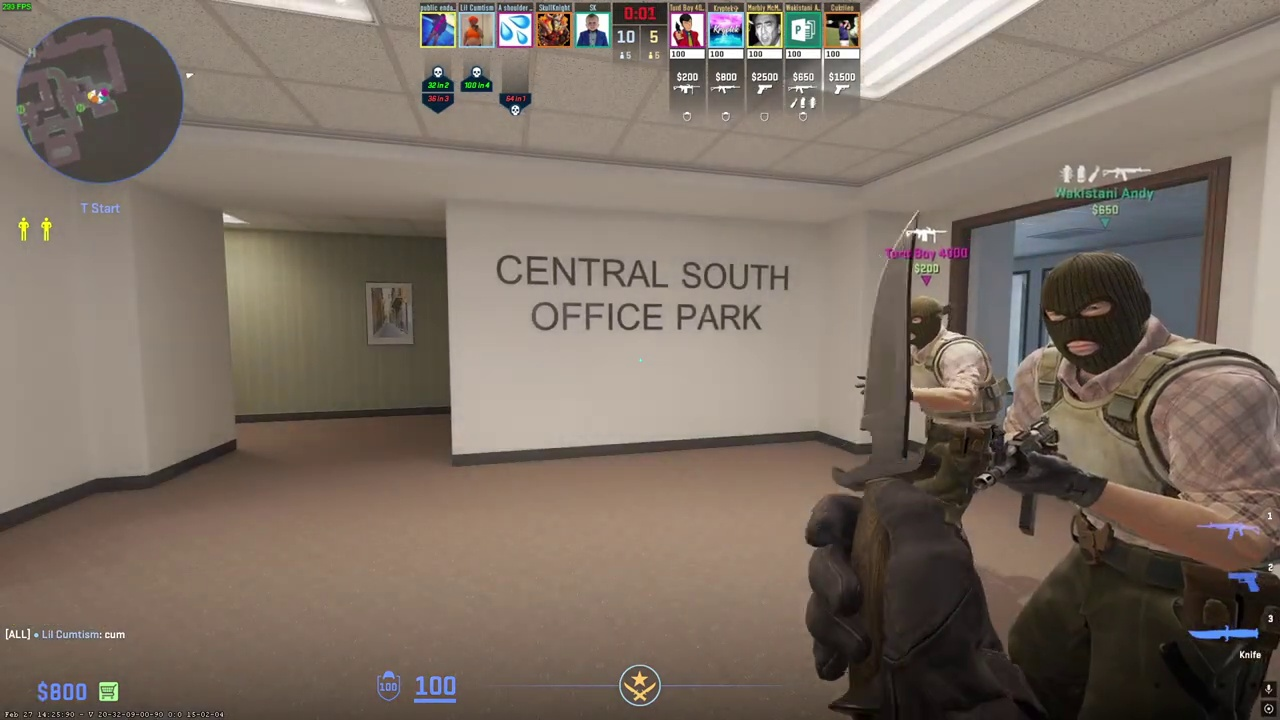Terrorist: (1004, 251, 1280, 720), (901, 297, 1006, 528)
